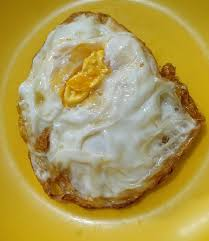Telur ceplok: (18, 11, 201, 209)
